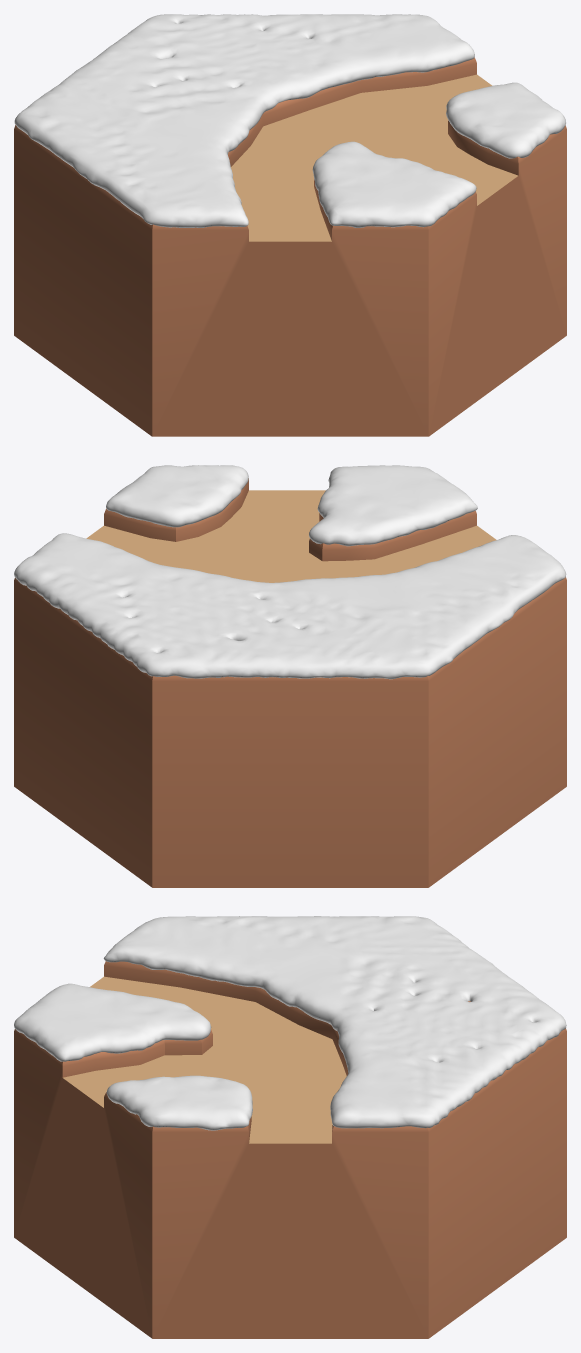
File: hex_rock_roadH.fbx
The picture shows the model from 3 angles, top to bottom: view 1: azimuth 30°, elevation 25°; view 2: azimuth 150°, elevation 25°; view 3: azimuth 270°, elevation 25°; orthographic projection.
Parts seen in each view (by area): view 1: hex_rock_roadH.001, SnowBall.001, hex_rock_roadH; view 2: hex_rock_roadH.001, SnowBall.001, hex_rock_roadH; view 3: hex_rock_roadH.001, SnowBall.001, hex_rock_roadH.
Part boxes in pixels (x1,y1,x2,y2): hex_rock_roadH.001: (14,57,566,436); SnowBall.001: (14,14,565,227); hex_rock_roadH: (231,74,517,241); hex_rock_roadH.001: (14,478,566,887); SnowBall.001: (14,465,566,679); hex_rock_roadH: (86,490,496,582); hex_rock_roadH.001: (14,961,566,1338); SnowBall.001: (14,916,566,1130); hex_rock_roadH: (63,976,346,1143).
Size of the model in its own units: 203 by 104 by 231.
